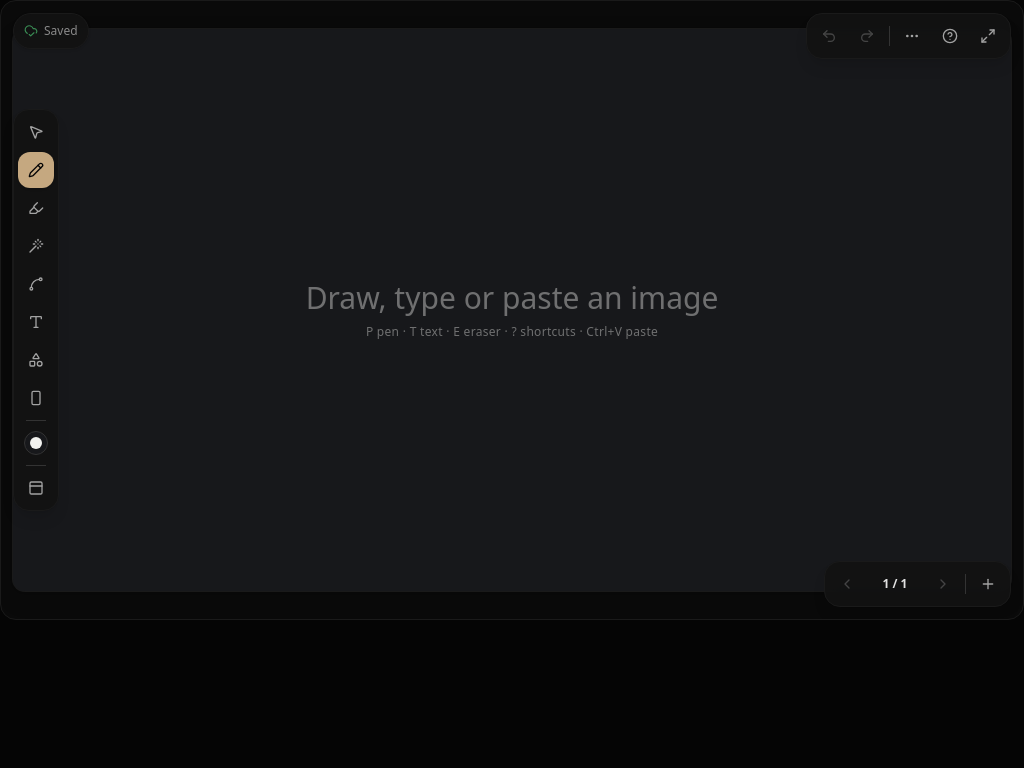
ClassroomBoard Component (SDD/2026-10-03_07-lousa-virtual.md) › renders toolbar with tools, thicknesses, colors and controls (RNF06)
This screenshot has width=1024, height=768.
Check: the button named "Pen" is shown, box [18,152,54,188]
Check: the button named "Highlighter" is shown, box [18,190,54,226]
# Thickness and colors live in the style popover (SDD/2026-10-06_redesign-ux-ui-lousa.md, RF03)
Click the button named "Color and width": (36, 443) [18,425,54,461]
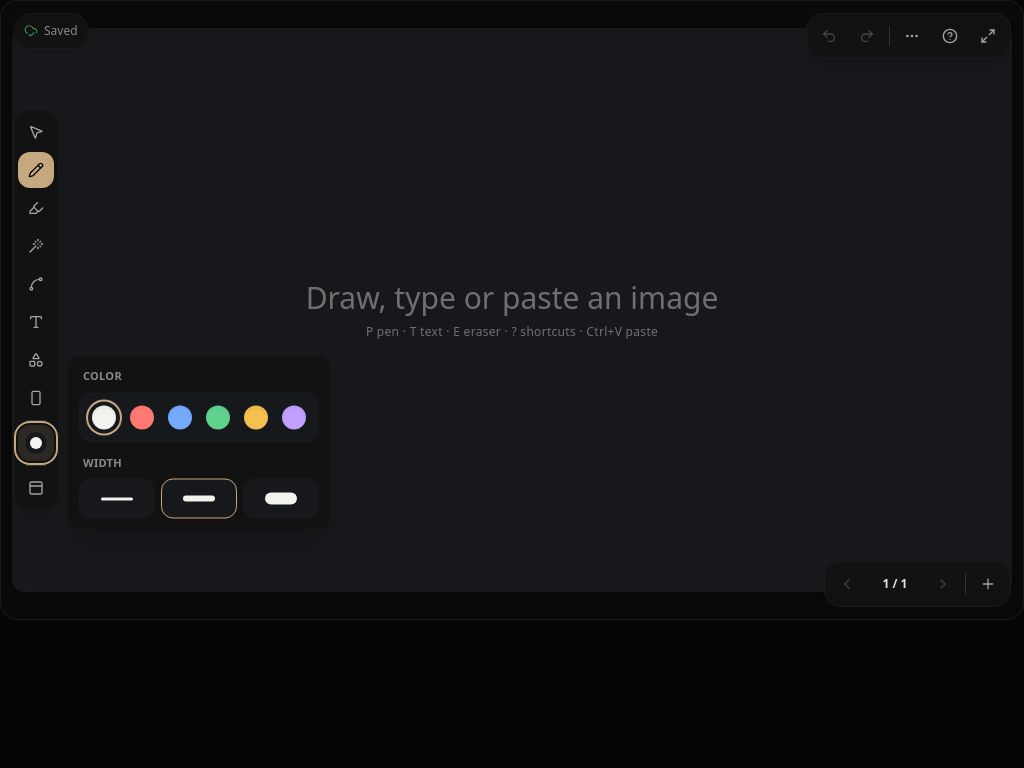
Check: the radio button named "Thin width" is shown, box [79,478,155,518]
Check: the radio button named "Medium width" is shown, box [161,478,237,518]
Check: the radio button named "Thick width" is shown, box [243,478,319,518]
# Backgrounds live in the "More options" menu (RF07)
Click the button named "More options": (912, 36) [894,18,930,54]
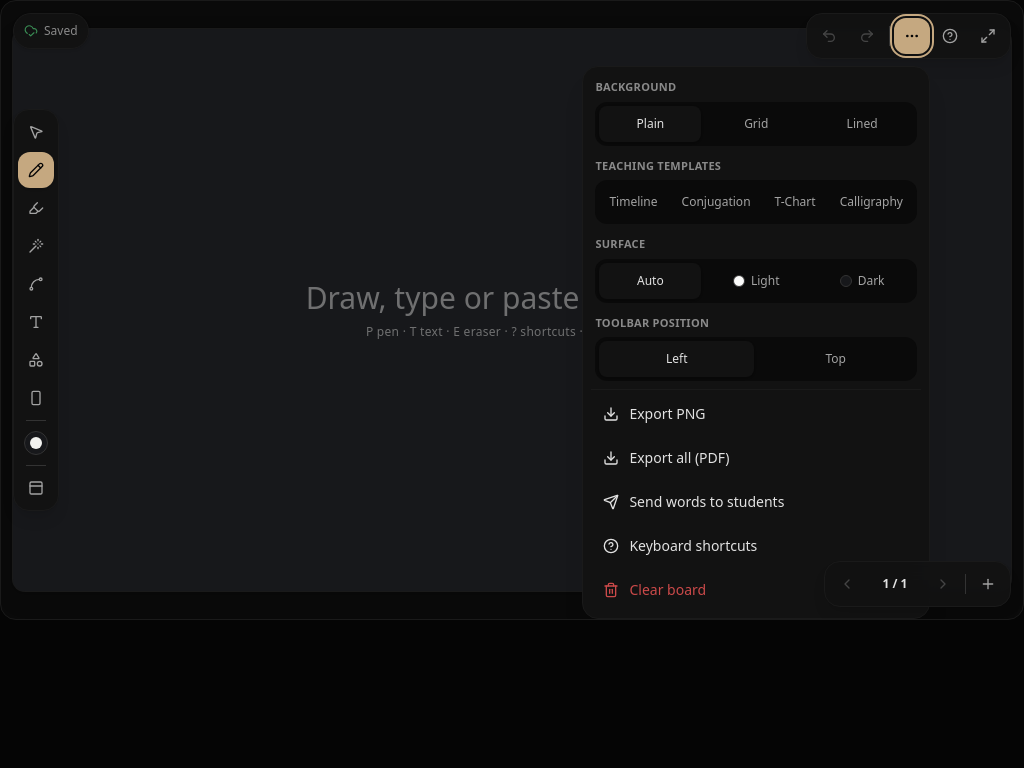
Check: the radio button labelled "Plain" is shown, box [599,106,701,142]
Check: the radio button labelled "Grid" is shown, box [705,106,807,142]
Check: the radio button labelled "Lined" is shown, box [811,106,913,142]
